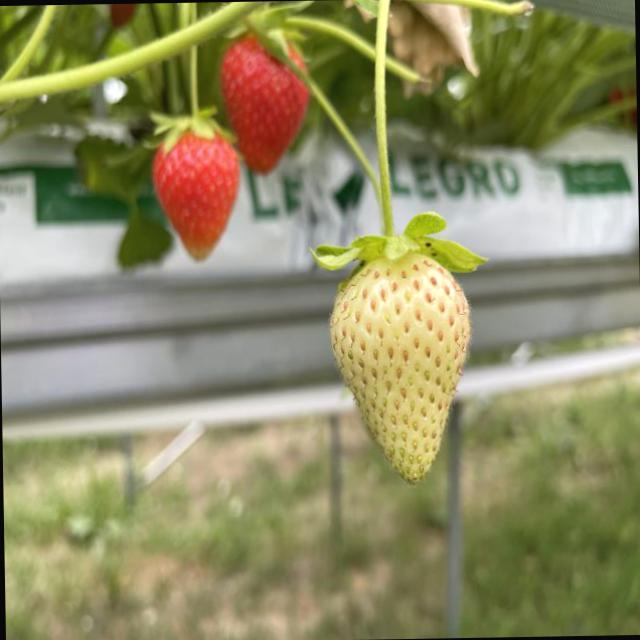stem: (316, 0, 481, 273)
strawberryNR: (329, 253, 469, 481)
strawberryR: (220, 34, 308, 169), (153, 134, 237, 259)
